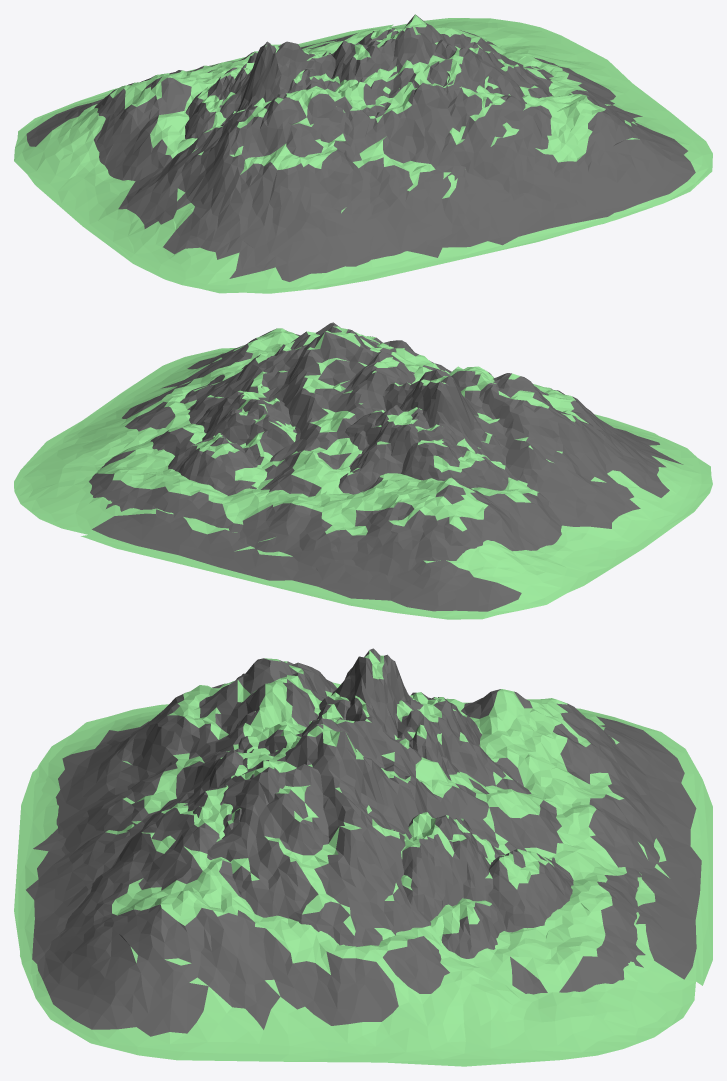
File: Background Mountains.fbx
The picture shows the model from 3 angles, top to bottom: view 1: azimuth 30°, elevation 25°; view 2: azimuth 150°, elevation 25°; view 3: azimuth 270°, elevation 25°; orthographic projection. The views are drawn at different scales.
Visible parts, largest first — view 1: Background Mountain 1, Background Mountain 3, Background Mountain 5, Background Mountain 2, Background Mountain 4; view 2: Background Mountain 1, Background Mountain 3, Background Mountain 2, Background Mountain 4, Background Mountain 5; view 3: Background Mountain 1, Background Mountain 3, Background Mountain 4, Background Mountain 2, Background Mountain 5.
Part boxes in pixels (bbox=[...]): Background Mountain 1: bbox=[14, 18, 712, 293]; Background Mountain 3: bbox=[94, 14, 651, 289]; Background Mountain 5: bbox=[219, 41, 335, 125]; Background Mountain 2: bbox=[185, 32, 502, 139]; Background Mountain 4: bbox=[247, 27, 402, 93]; Background Mountain 1: bbox=[14, 328, 712, 619]; Background Mountain 3: bbox=[89, 322, 657, 575]; Background Mountain 2: bbox=[196, 337, 512, 490]; Background Mountain 4: bbox=[168, 405, 429, 495]; Background Mountain 5: bbox=[150, 370, 505, 464]; Background Mountain 1: bbox=[20, 658, 712, 1066]; Background Mountain 3: bbox=[14, 689, 672, 994]; Background Mountain 4: bbox=[317, 692, 573, 932]; Background Mountain 2: bbox=[223, 697, 505, 921]; Background Mountain 5: bbox=[331, 648, 504, 958].
Size of the model in its own units: 377 by 86.96 by 304.
